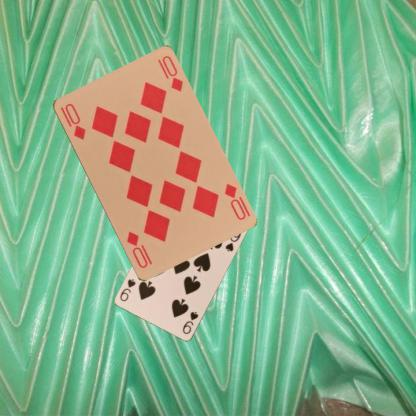10d: (57, 101, 87, 141), (222, 180, 248, 222)
9s: (180, 309, 200, 336)
